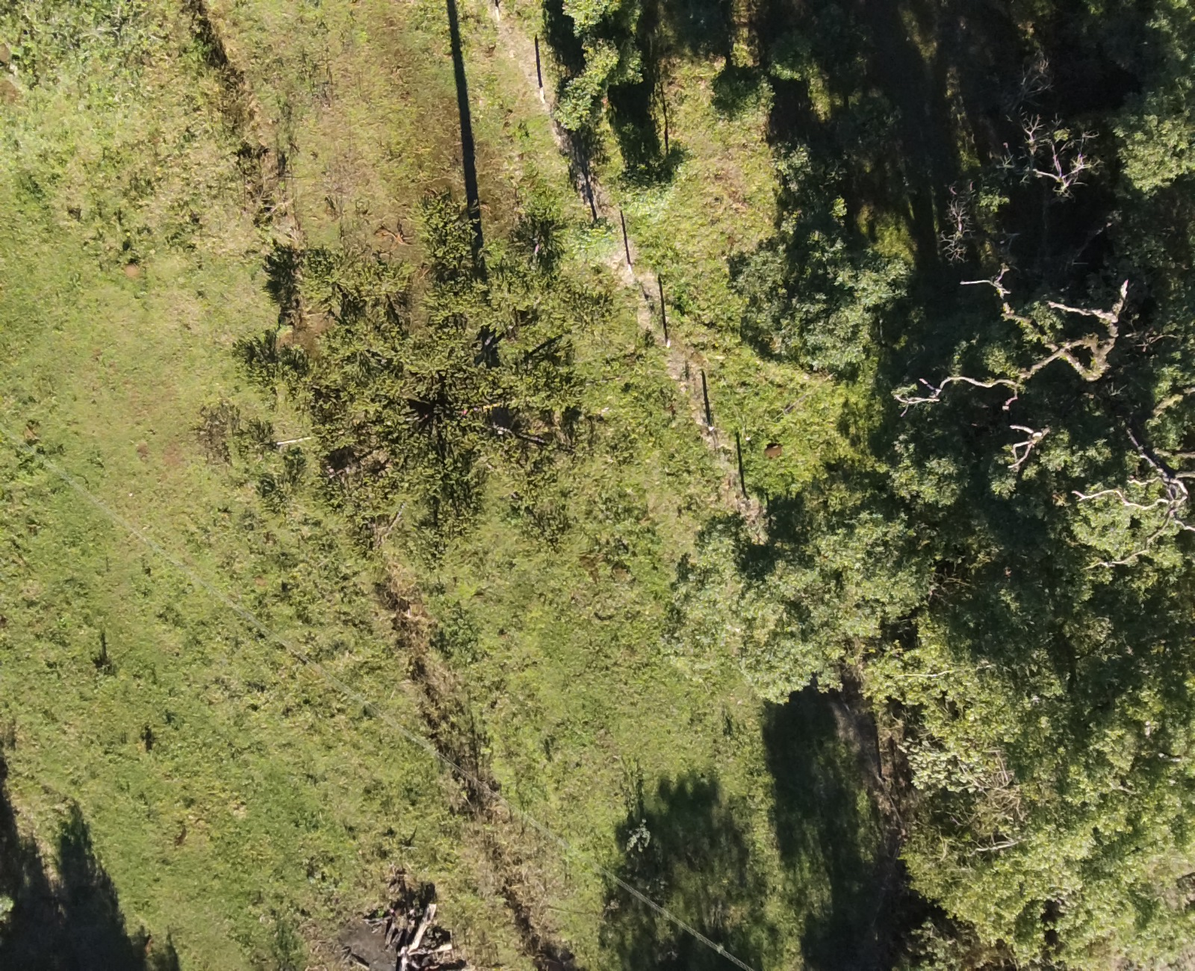erva: (556, 52, 617, 128), (620, 153, 683, 226), (715, 71, 774, 136)
